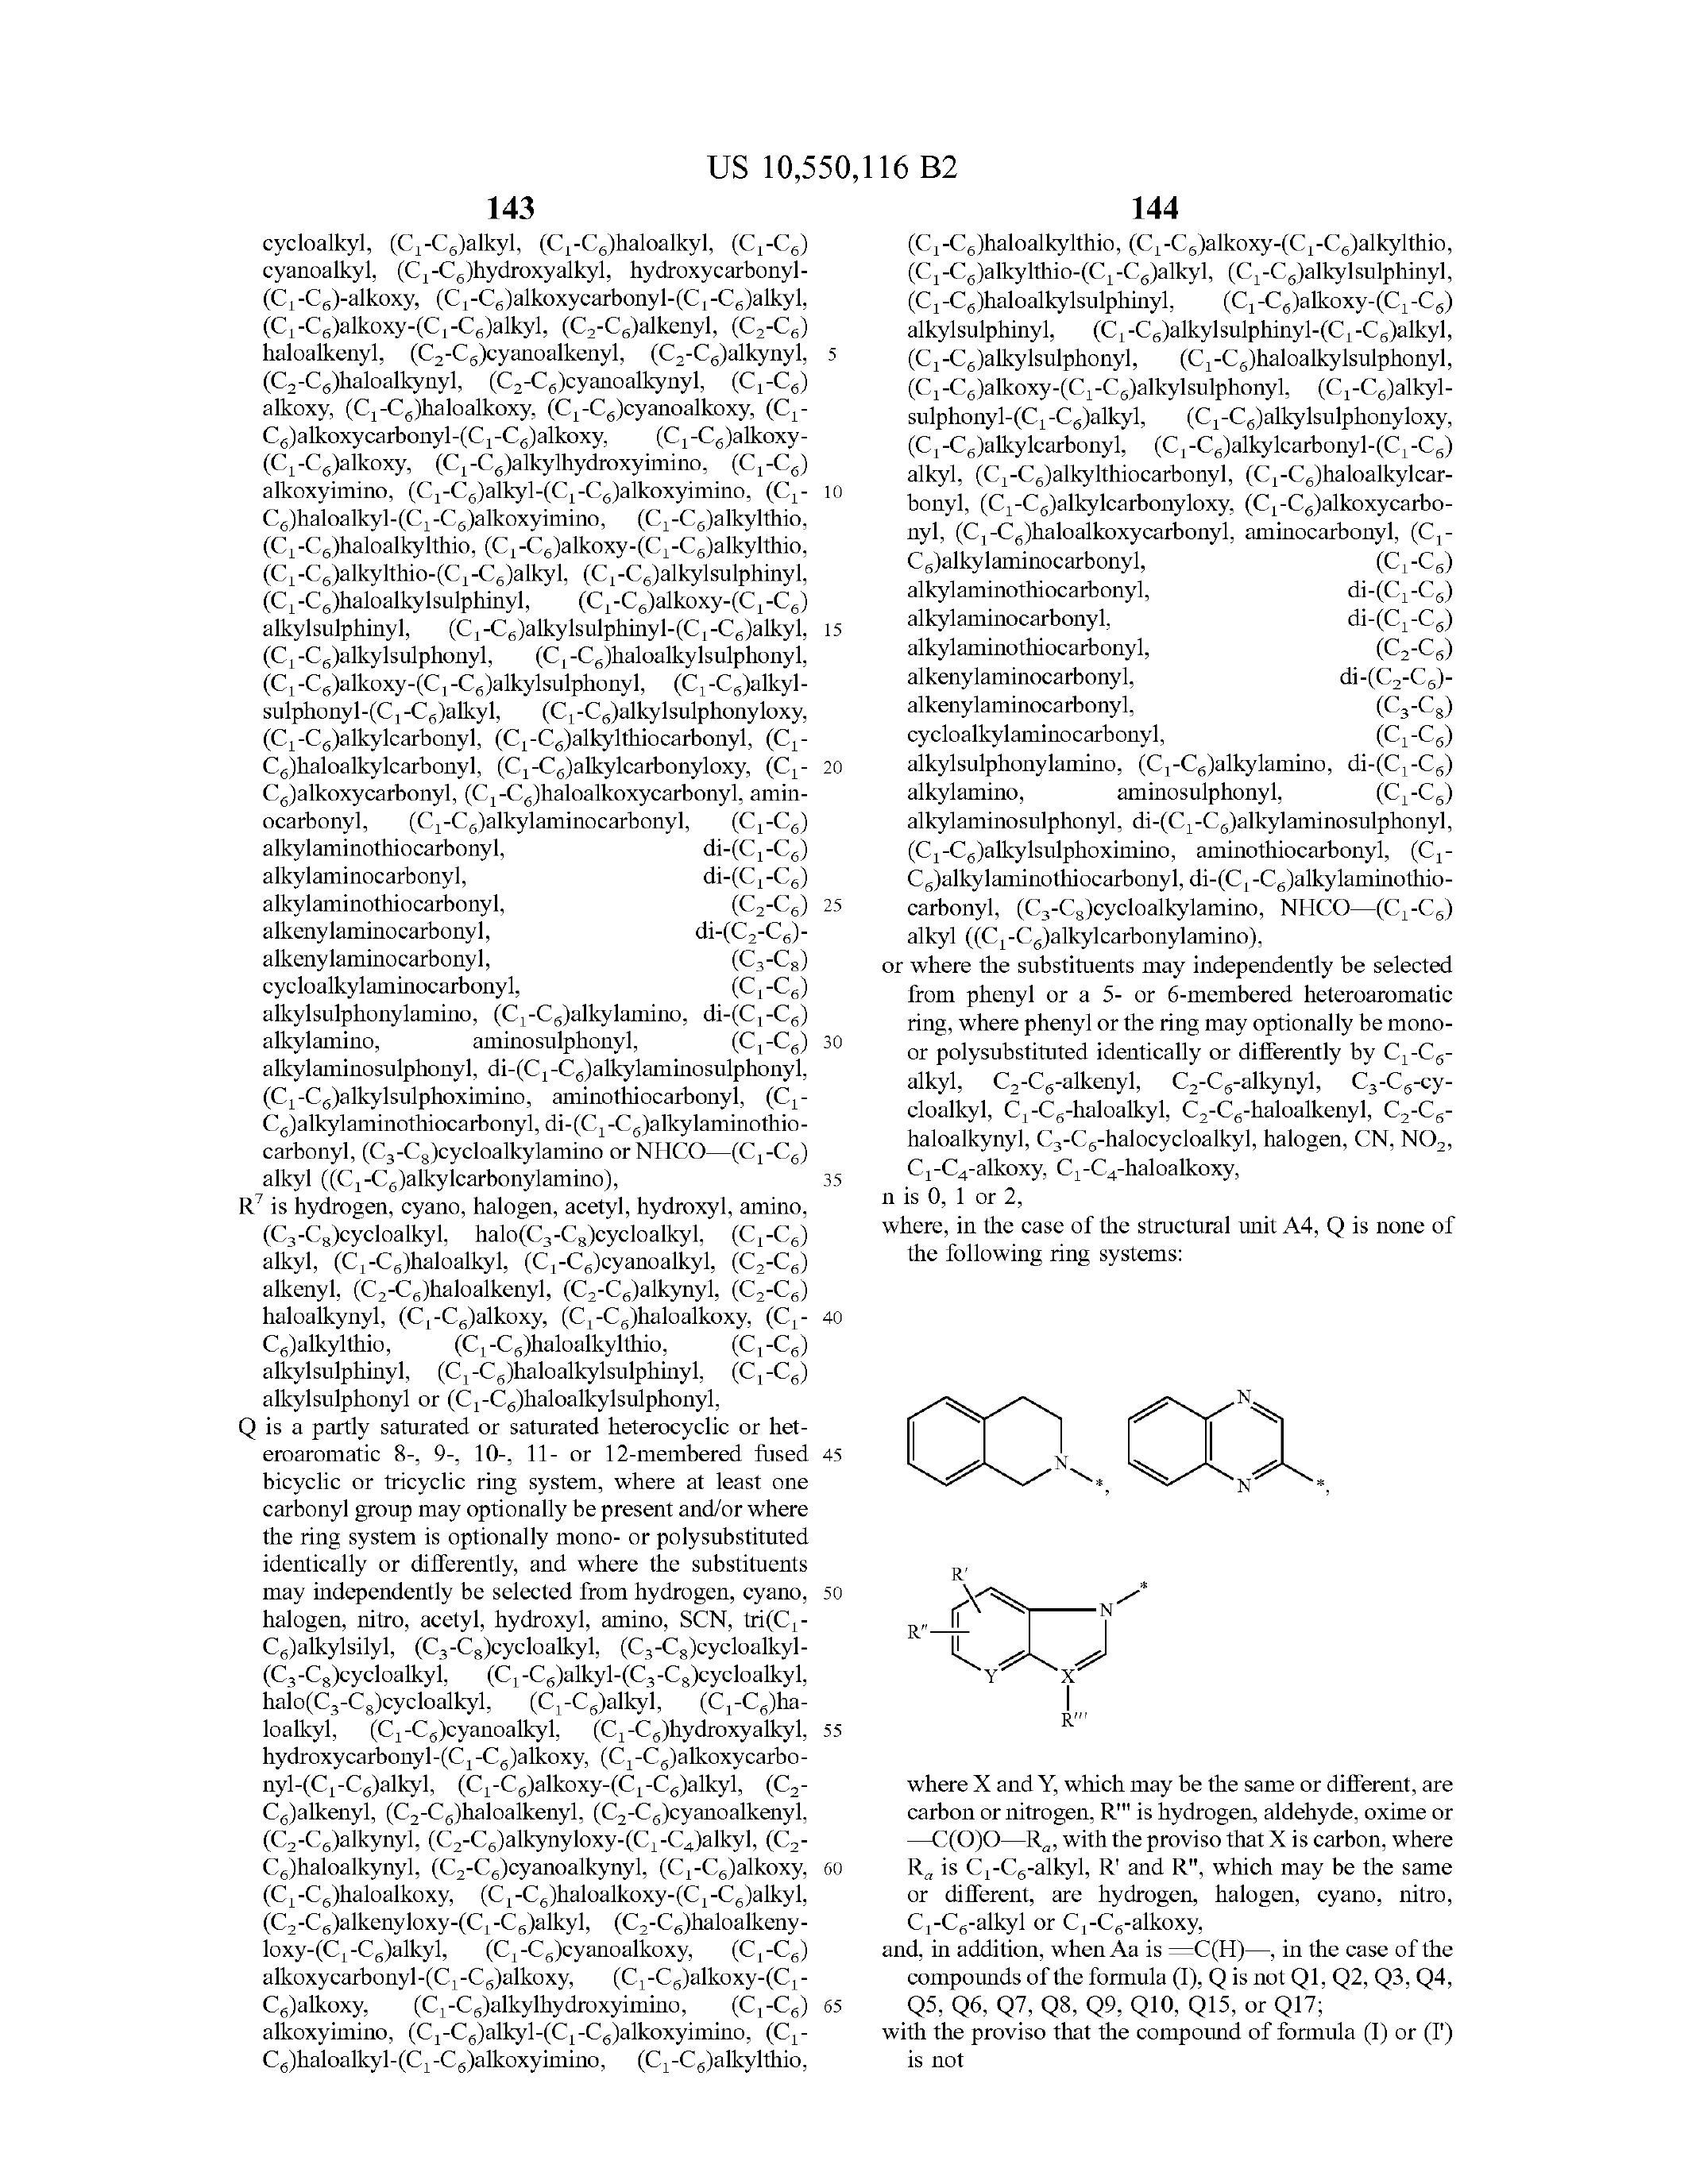markush-structures: (904, 1540, 1153, 1741)
substitutes: (869, 1367, 1112, 1514), (1131, 1361, 1330, 1517)
